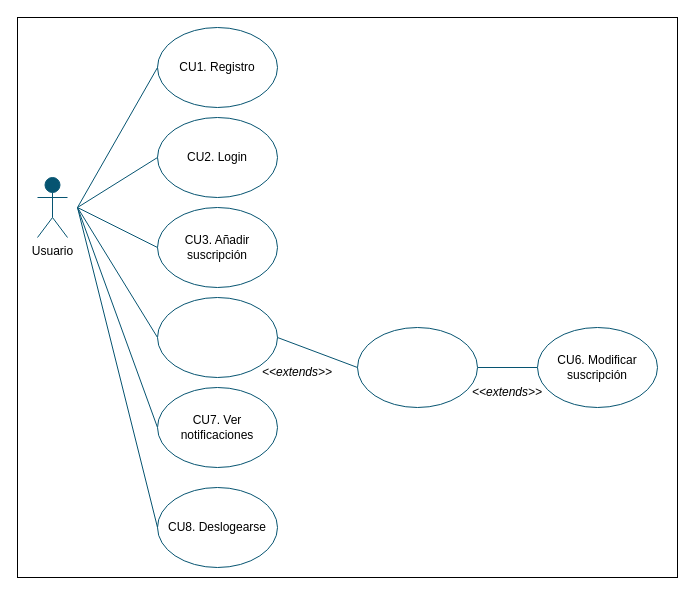
Image size: 695x595. Some labels were removed from this diagram. Here are the shapes that lost their labels. From the top down, the box of each, then its label:
(156, 296, 278, 378): CU4. Listar suscripciones
(356, 326, 478, 408): CU5. Ver detalle de suscripción
